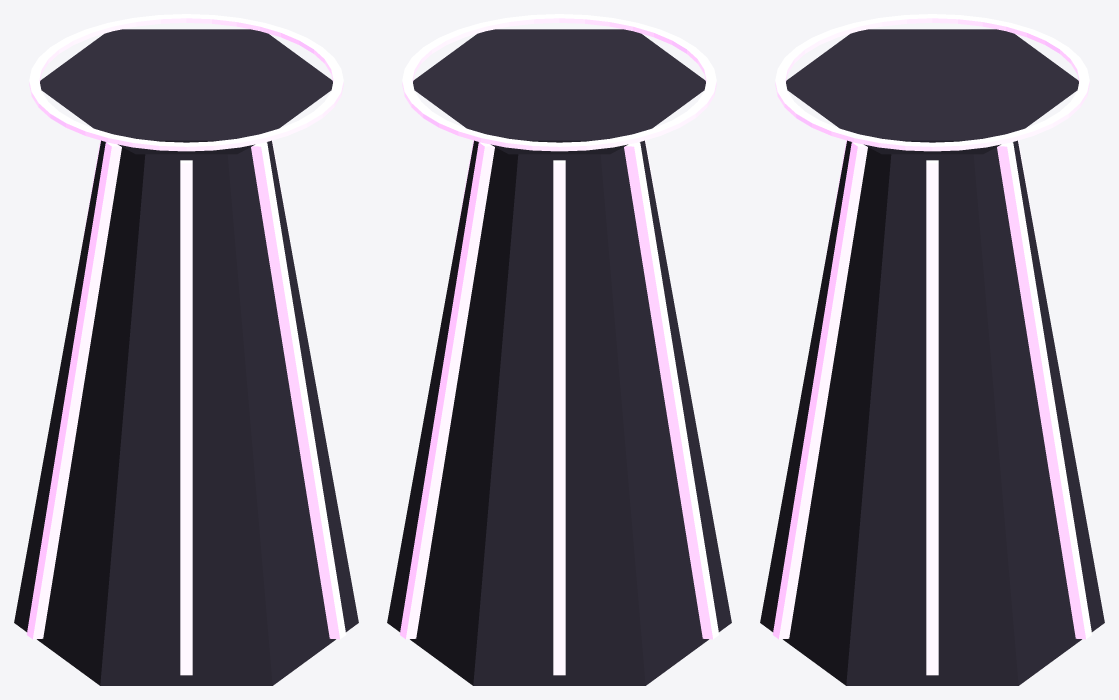
File: black_market_relay.glb
3 renders of one model, left to right at view 1: azimuth 30°, elevation 25°; view 2: azimuth 150°, elevation 25°; view 3: azimuth 270°, elevation 25°, orthographic.
Visible parts, largest first — view 1: Pedestal, PedestalLight; view 2: Pedestal, PedestalLight; view 3: Pedestal, PedestalLight.
Part boxes in pixels (x1=…): Pedestal: x1=14, y1=29, x2=358, y2=685; PedestalLight: x1=26, y1=14, x2=346, y2=675; Pedestal: x1=387, y1=29, x2=731, y2=685; PedestalLight: x1=399, y1=14, x2=719, y2=675; Pedestal: x1=760, y1=29, x2=1104, y2=685; PedestalLight: x1=772, y1=14, x2=1092, y2=675.
Size of what is drawn, in the model's own units: 0.7136 by 1.18 by 0.68.
